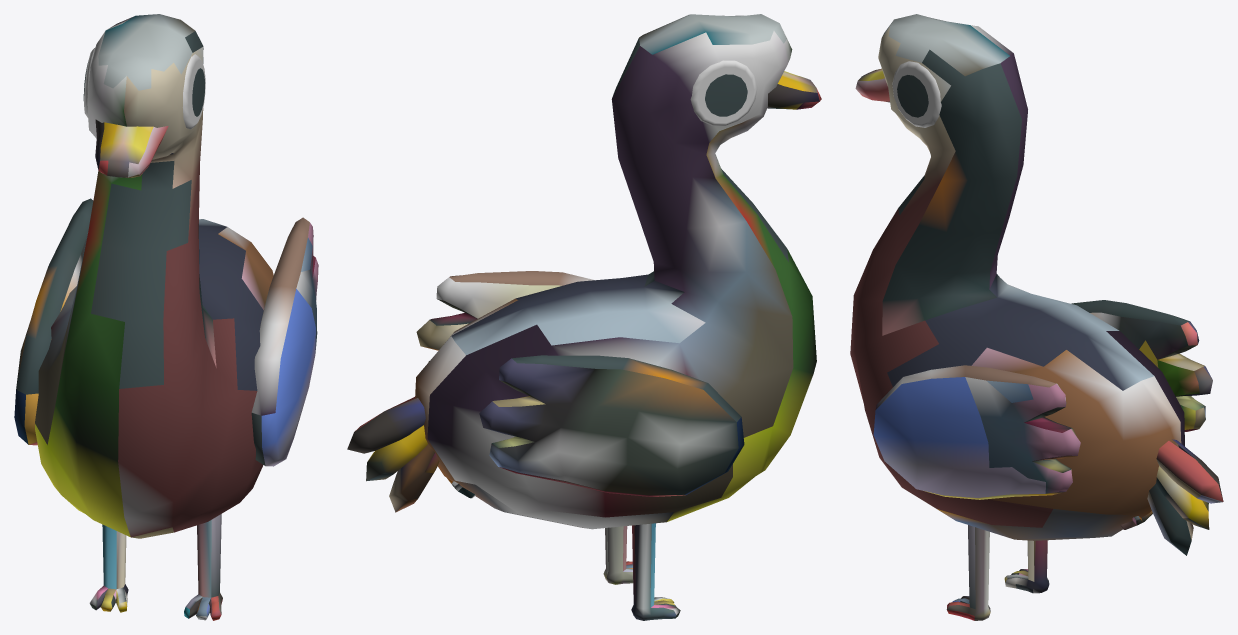
The model's file is Swan.glb.
3 renders of one model, left to right at view 1: azimuth 30°, elevation 25°; view 2: azimuth 150°, elevation 25°; view 3: azimuth 270°, elevation 25°, orthographic. The views are drawn at different scales.
Parts seen in each view (by area): view 1: 162; view 2: 162; view 3: 162.
Boxes of the visible parts, <box> form: 162: <box>14,14,318,620</box>; 162: <box>347,14,821,620</box>; 162: <box>850,14,1223,620</box>.
Bounding box in the file's own units: 0.6418 × 1.13 × 0.6917.
